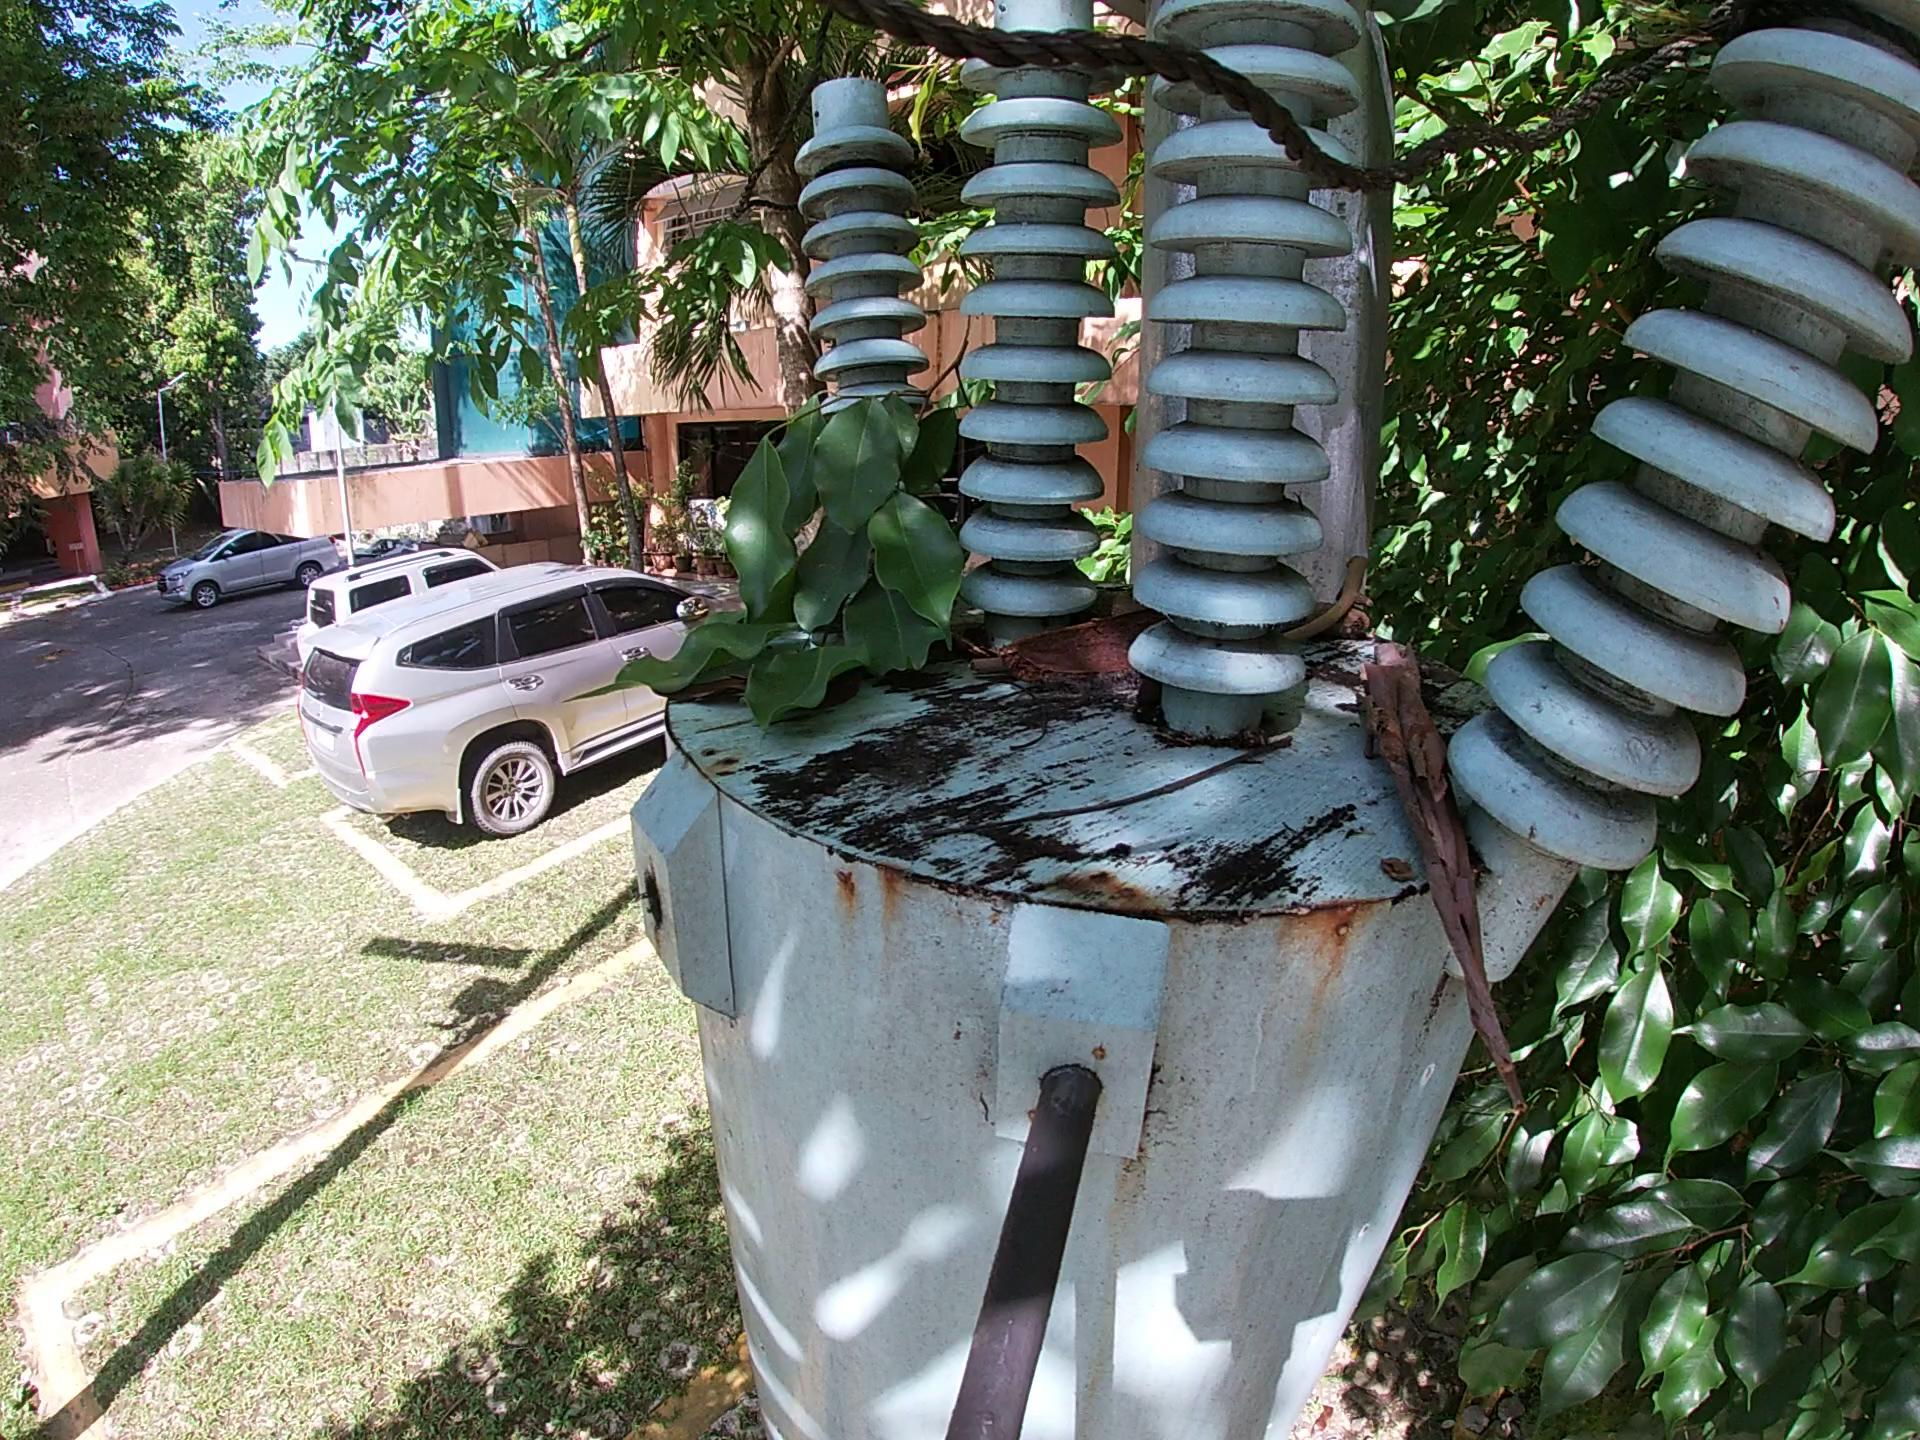branch with leaves: (562, 331, 965, 764)
mahogany fruit: (992, 617, 1157, 690), (671, 664, 747, 706)
tree branch: (1347, 611, 1544, 1122), (952, 734, 1308, 846), (993, 696, 1067, 771), (1076, 579, 1169, 614), (969, 650, 1008, 682)
